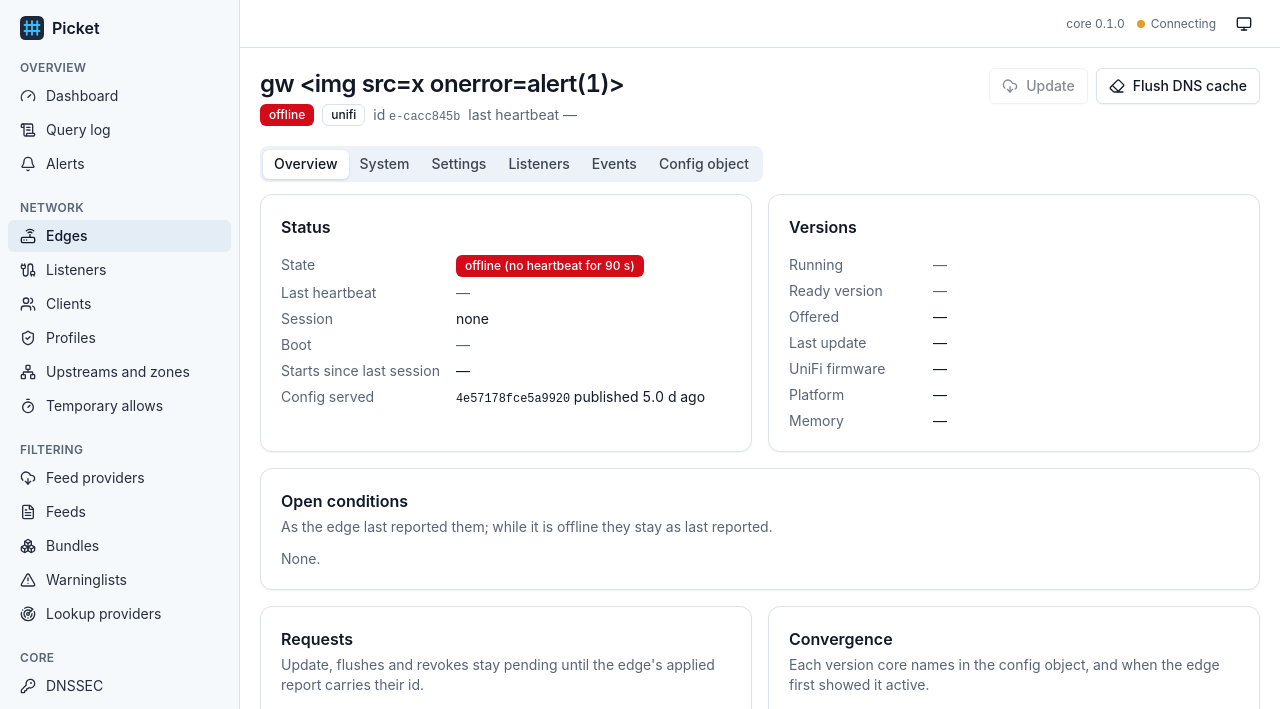
Scenario: edges › requests a DNS cache flush and shows it pending until applied
The width and height of the screenshot is (1280, 709).
Step 1. Click the button "Flush DNS cache" → (1178, 86), box left=1096, top=68, right=1260, bottom=104
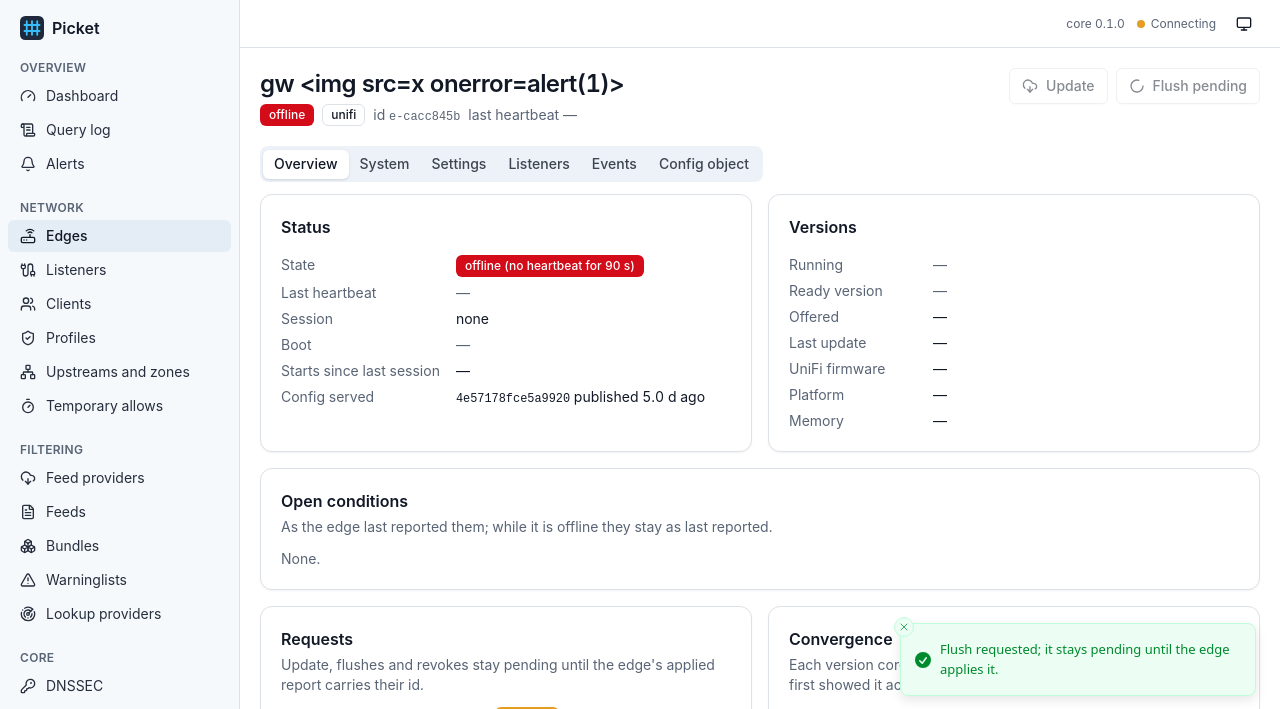
Now the button "Flush pending" is disabled, box left=1116, top=68, right=1260, bottom=104
